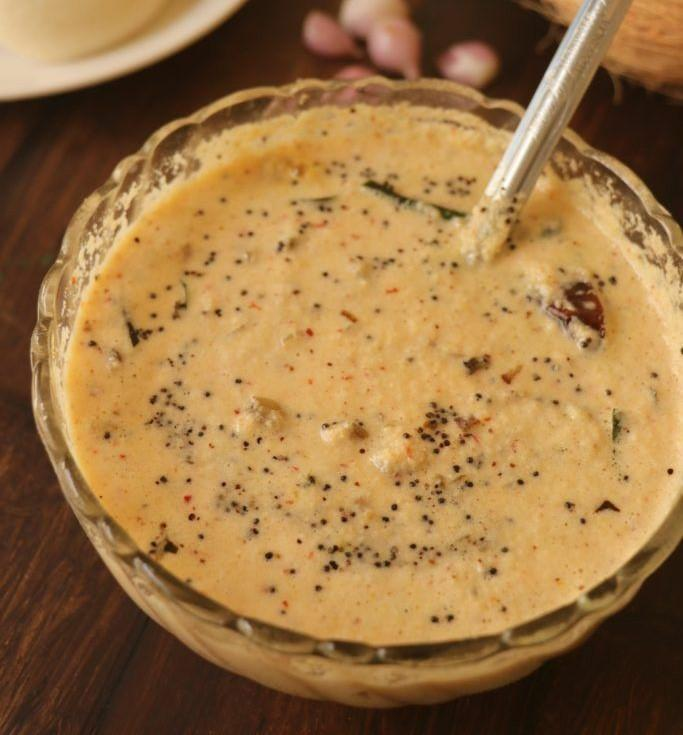CoconutChutney: (71, 129, 683, 642)
